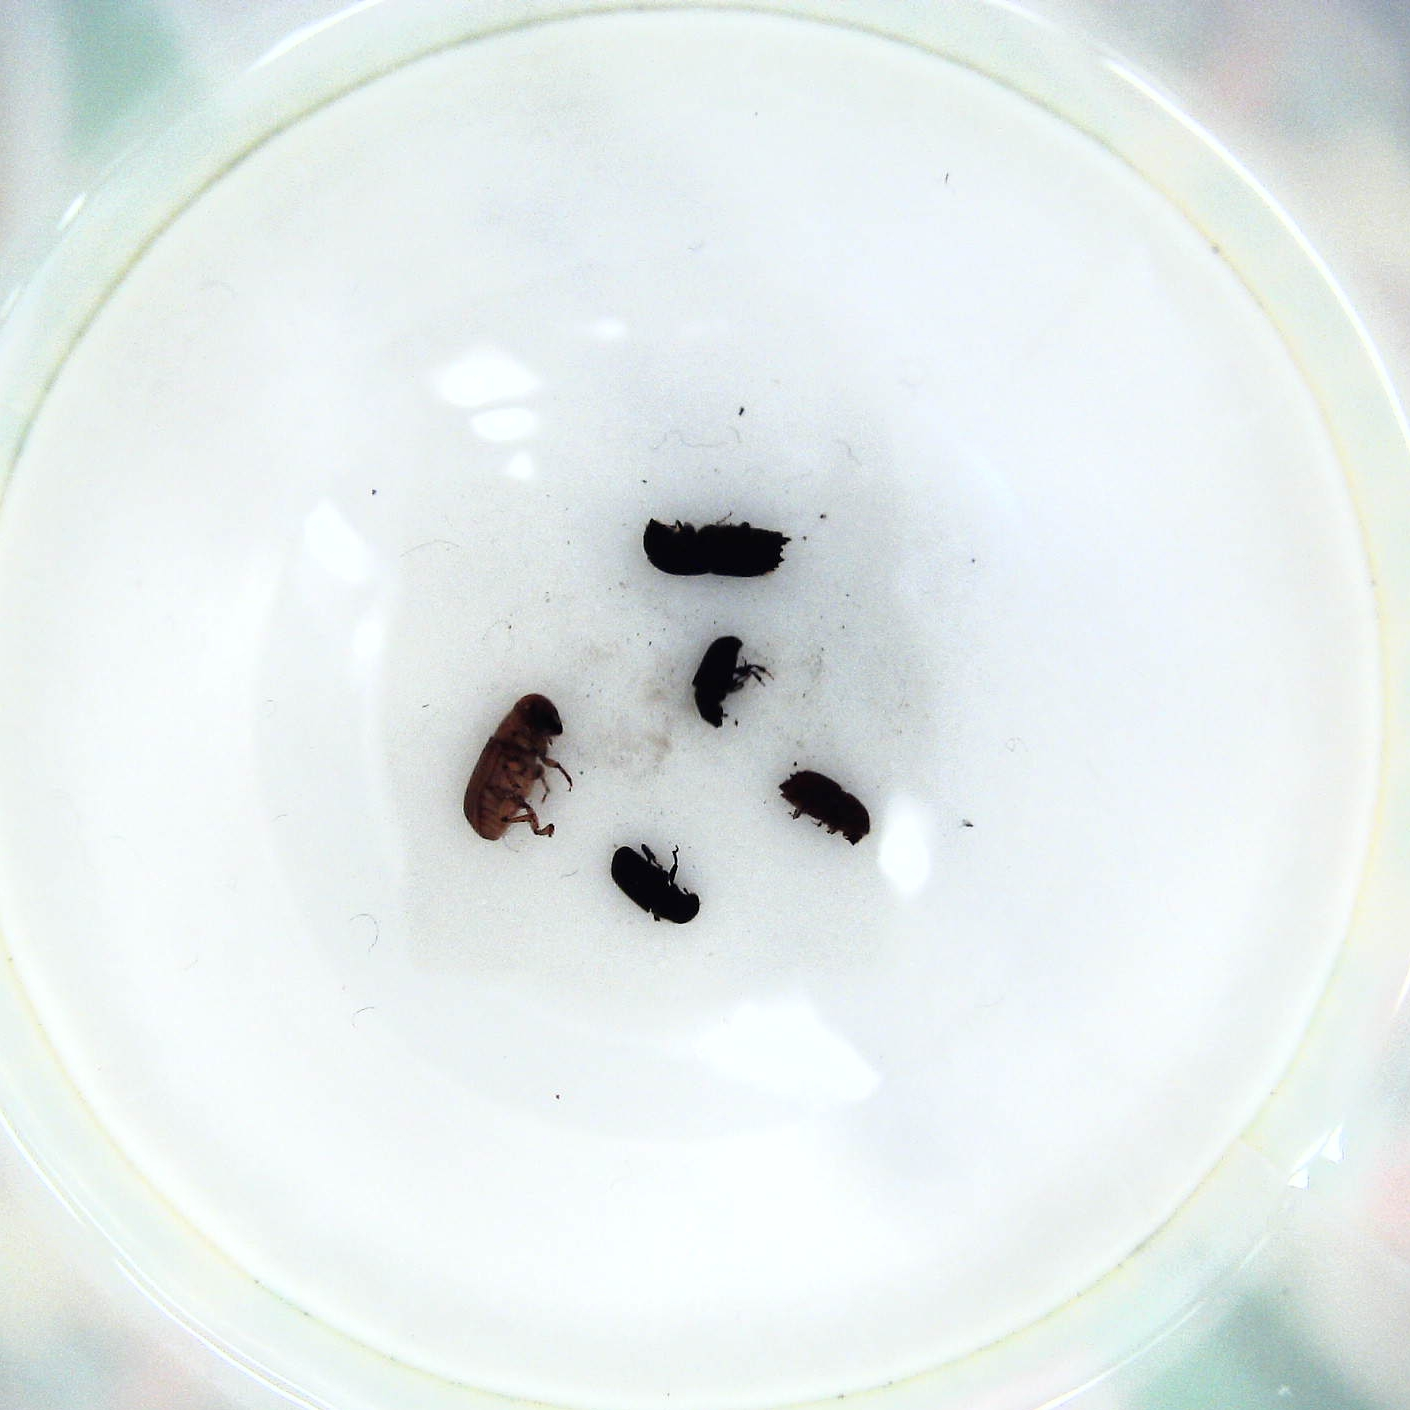Boerner: (639, 514, 795, 582)
Leconte: (458, 690, 582, 843)
armandi: (604, 839, 704, 931)
coleoptera: (692, 629, 780, 726)
linnaeus: (775, 764, 875, 848)
